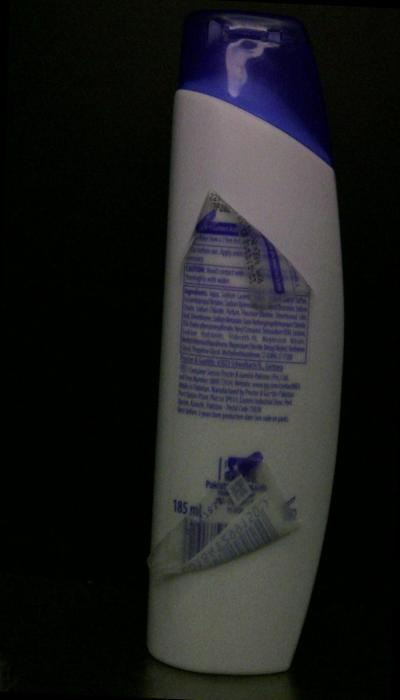adhesion_unacc: (151, 445, 302, 588), (220, 192, 317, 316), (181, 186, 218, 266)
